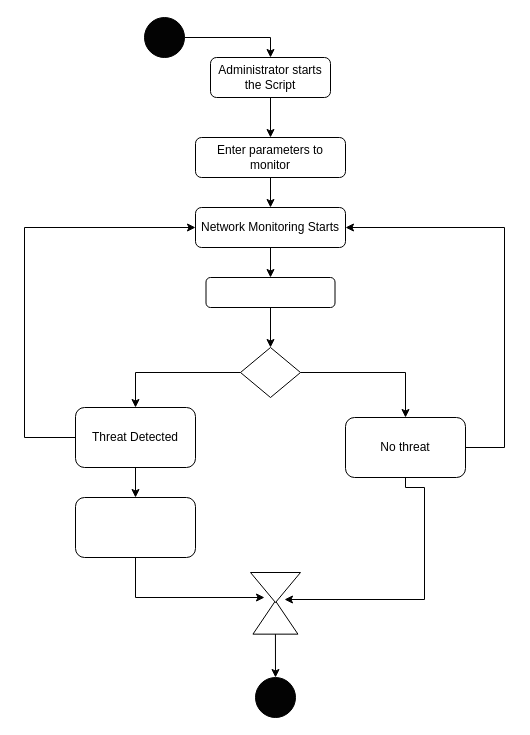
The diagram is 530 pixels wide and 735 high, and some of its shapes have lost their labels. Each missing label, with the box of its shape:
Checking IP status: (205, 276, 335, 308)
Create Firewall rule: (74, 496, 196, 558)
